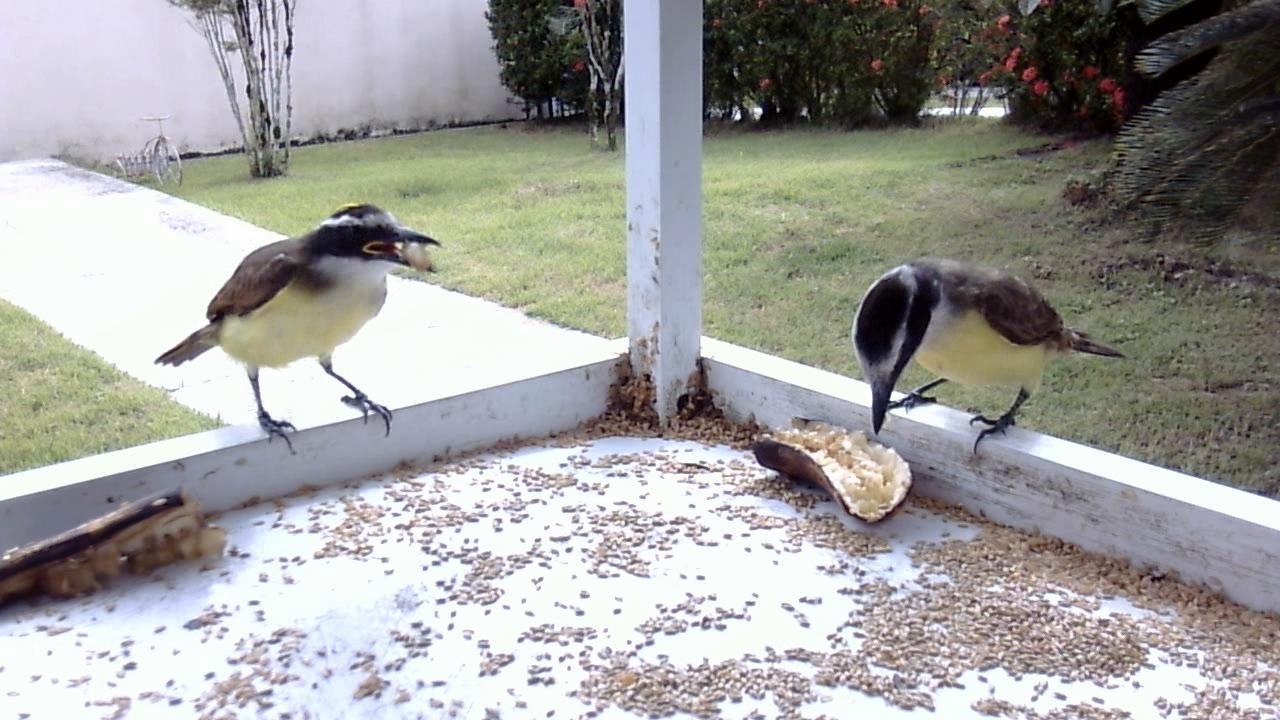bem_te_vi: (146, 185, 449, 466), (843, 248, 1127, 467)
